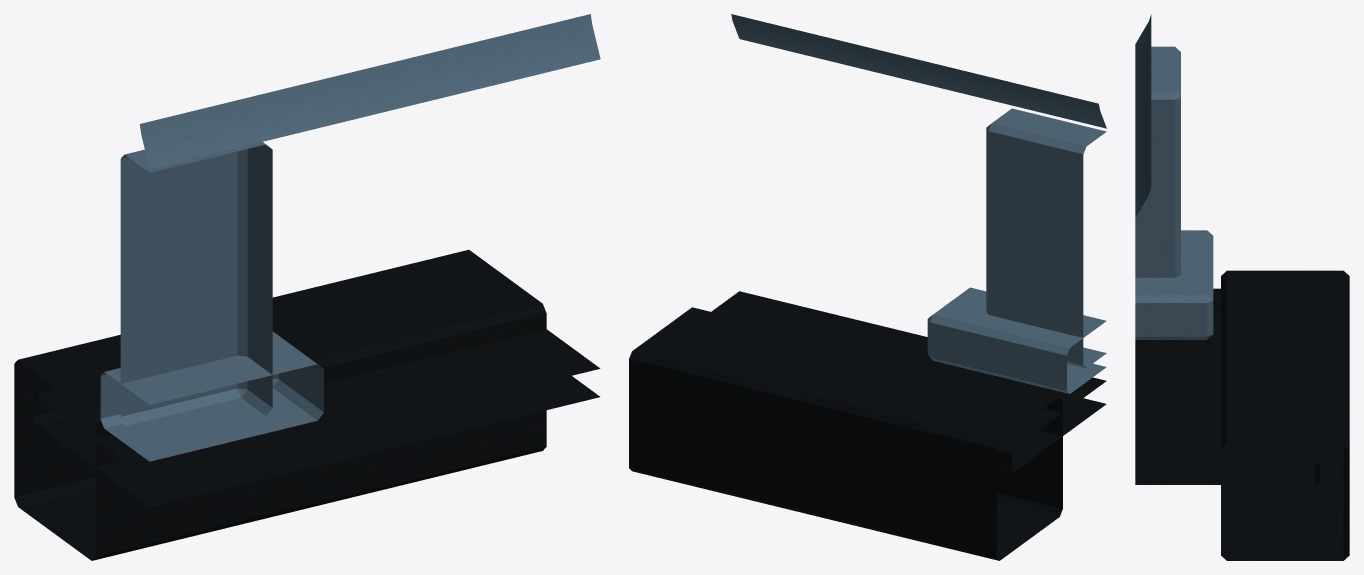
Rendered from cell_1.obj.
The picture shows the model from 3 angles, left to right: view 1: azimuth 30°, elevation 25°; view 2: azimuth 150°, elevation 25°; view 3: azimuth 270°, elevation 25°; orthographic projection. The views are drawn at different scales.
Parts seen in each view (by area): view 1: cell_1; view 2: cell_1; view 3: cell_1.
Boxes of the visible parts, left/top/right/bottom form: cell_1: left=14, top=14, right=600, bottom=560; cell_1: left=629, top=14, right=1106, bottom=560; cell_1: left=1135, top=14, right=1349, bottom=560.
Bounding box in the file's own units: 1 × 1 × 0.52.
